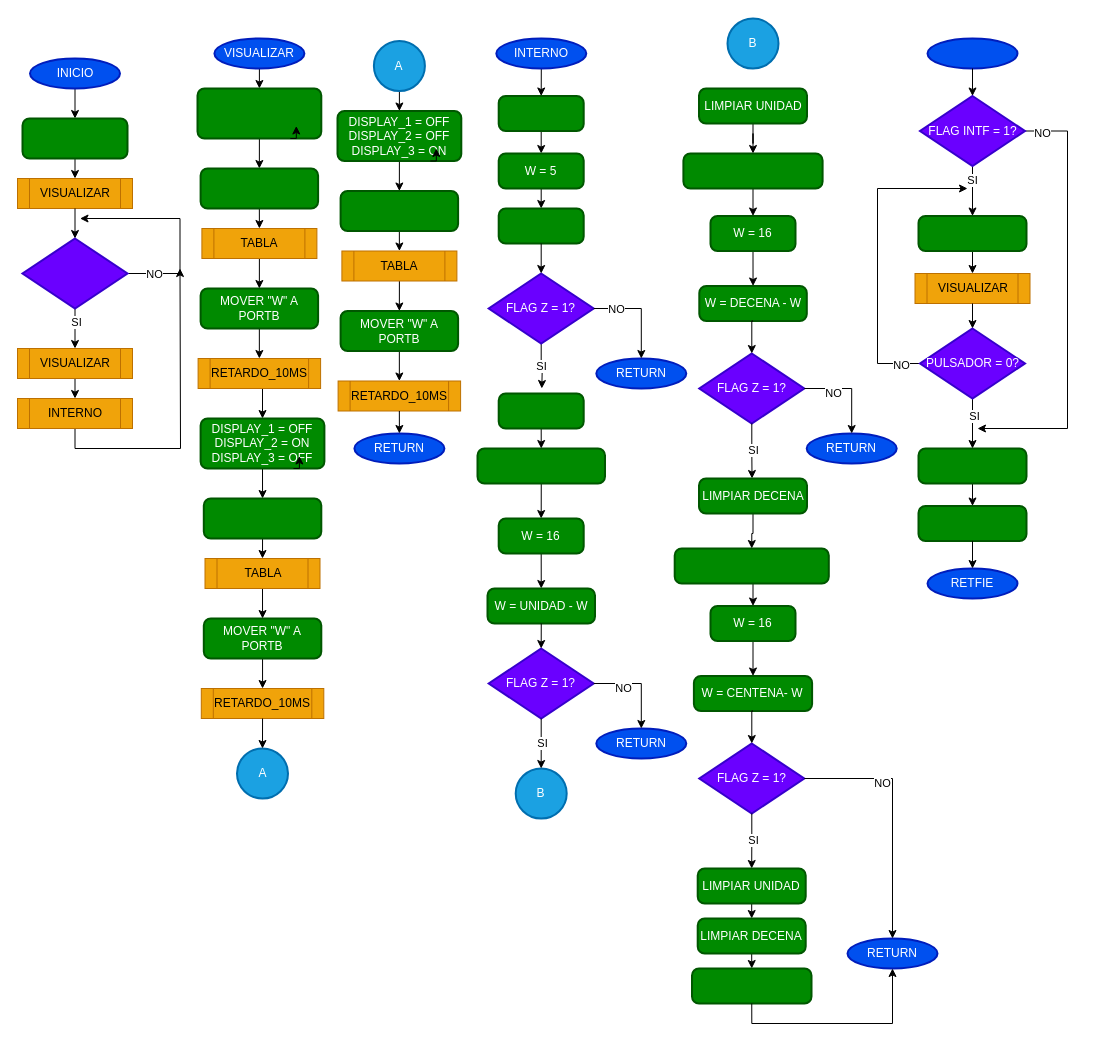
Image size: 1093x1049. Some labels were removed from this diagram. The shapes that lost their labels are listed below. From the top down, each one's centre as x and y in pixels, then its label:
(972,53): INT_RB0
(259,113): DISPLAY_1 = ON DISPLAY_2 = OFF DISPLAY_3 = OFF
(540,113): AUX = AUX+1
(74,138): CONFIGURAIÓN DE REGISTROS
(259,188): MOVER UNIDADES A "W"
(752,170): DECENA = DECENA+1
(399,211): MOVER CENTENA A "W"
(540,225): W = AUX - W
(972,233): ENCENDER MOTOR
(74,273): SE PRESIONO START?
(540,410): LIMPIAR AUX
(541,465): UNIDAD = UNIDAD+1
(972,465): APAGAR MOTOR
(262,518): MOVER DECENAS A "W"
(972,523): INTF = 0
(751,565): CENTENA = CENTENA+1
(751,985): LIMPIAR CENTENA
